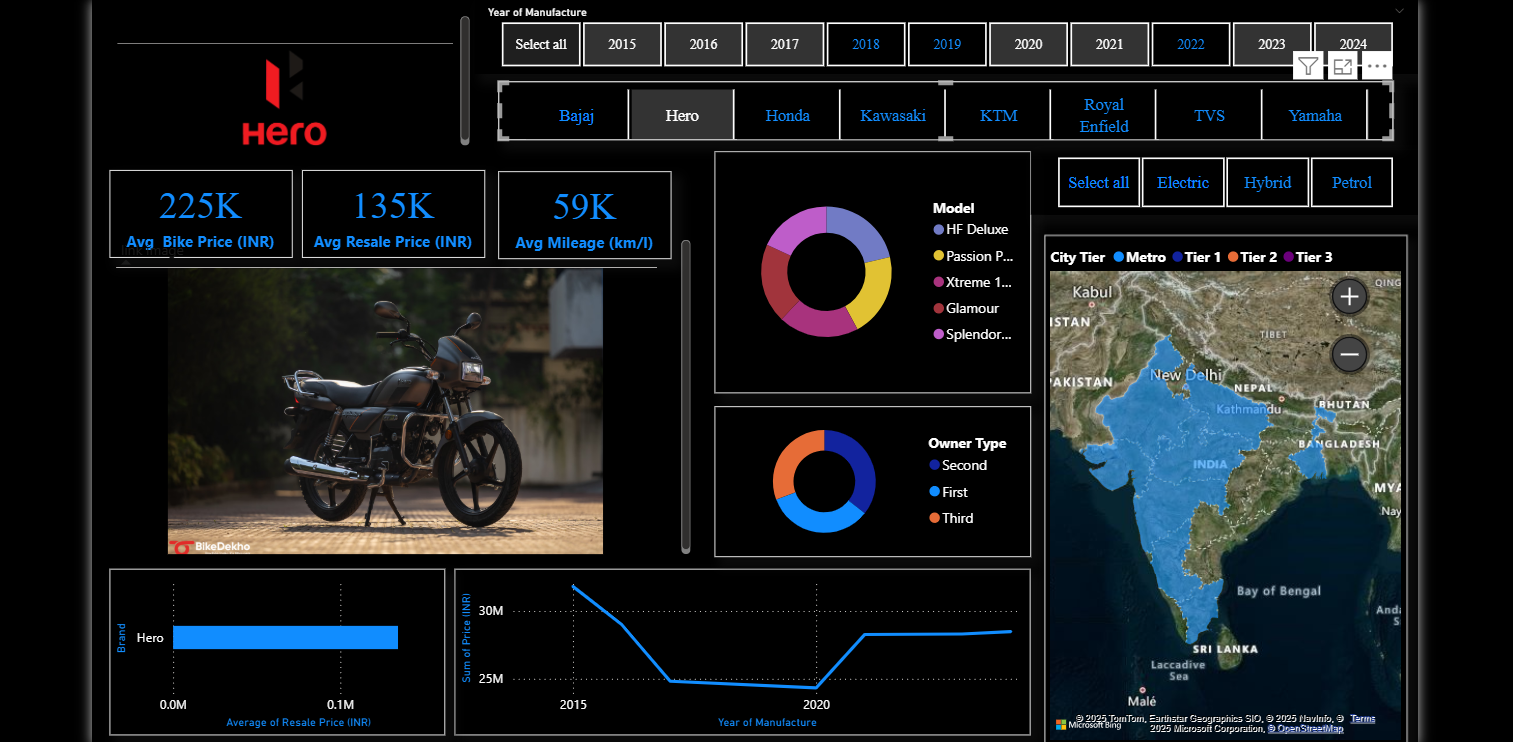

This screenshot's page, from the dashboard's own definition file:
{"tool":"powerbi","page":{"name":"Page 1","canvas":[1280,720],"ordinal":0},"visuals":[{"type":"card","fields":{"Values":["Avg(Sheet1.Price (INR))"]},"box":[16.7,164,176.5,84.8],"z":0},{"type":"card","fields":{"Values":["Avg(Sheet1.Resale Price (INR))"]},"box":[203,164,176.5,84.8],"z":1000},{"type":"card","fields":{"Values":["Sum(Sheet1.Mileage (km/l))"]},"box":[392,165.4,166.8,84.8],"z":2000},{"type":"lineChart","fields":{"Category":["Sheet1.Year of Manufacture"],"Y":["Sum(Sheet1.Price (INR))"]},"box":[349.9,548.9,556.2,160.5],"z":3000},{"type":"barChart","fields":{"Category":["Sheet1.Brand"],"Y":["Avg(Sheet1.Resale Price (INR))"]},"box":[16.5,548.9,323.8,160.5],"z":4000},{"type":"donutChart","fields":{"Category":["Sheet1.Model"],"Y":["CountNonNull(Sheet1.Model)"]},"box":[600.5,146,305.8,233.5],"z":5000},{"type":"donutChart","fields":{"Category":["Sheet1.Owner Type"],"Y":["CountNonNull(Sheet1.Model)"]},"box":[600.5,392,305.8,146],"z":6000},{"type":"slicer","fields":{"Values":["Sheet1.Fuel Type"]},"box":[906.3,144.6,373.9,62.6],"z":7000},{"type":"filledMap","fields":{"Category":["Sheet1.State"],"Series":["Sheet1.City Tier"]},"box":[918.9,226.6,350.3,493.5],"z":8000},{"type":"slicer","fields":{"Values":["Sheet1.Year of Manufacture"]},"box":[369.8,0,910.5,70.9],"z":9000},{"type":"tableEx","fields":{"Values":["Table.link image"]},"box":[16.7,226.6,565.8,312.8],"z":10000},{"type":"slicer","fields":{"Values":["Table.Brand"]},"box":[392.1,78.4,863.8,56.7],"z":11000},{"type":"tableEx","fields":{"Values":["loko (2).logo2"]},"box":[18.1,11.1,351.7,134.8],"z":12000}]}

Visuals, with their boxes on the page's 1280x720 design canvas (x1, y1, x2, y2). These are canvas units, not pixel positions in the 1513x742 screenshot, which may show the page scaled, cropped or inside an application window:
card - Avg(Sheet1.Price (INR)): pyautogui.locateOnScreen(17, 164, 193, 249)
card - Avg(Sheet1.Resale Price (INR)): pyautogui.locateOnScreen(203, 164, 380, 249)
card - Sum(Sheet1.Mileage (km/l)): pyautogui.locateOnScreen(392, 165, 559, 250)
lineChart - Sheet1.Year of Manufacture x Sum(Sheet1.Price (INR)): pyautogui.locateOnScreen(350, 549, 906, 709)
barChart - Sheet1.Brand x Avg(Sheet1.Resale Price (INR)): pyautogui.locateOnScreen(16, 549, 340, 709)
donutChart - Sheet1.Model x CountNonNull(Sheet1.Model): pyautogui.locateOnScreen(600, 146, 906, 380)
donutChart - Sheet1.Owner Type x CountNonNull(Sheet1.Model): pyautogui.locateOnScreen(600, 392, 906, 538)
slicer - Sheet1.Fuel Type: pyautogui.locateOnScreen(906, 145, 1280, 207)
filledMap - Sheet1.State x Sheet1.City Tier: pyautogui.locateOnScreen(919, 227, 1269, 720)
slicer - Sheet1.Year of Manufacture: pyautogui.locateOnScreen(370, 0, 1280, 71)
tableEx - Table.link image: pyautogui.locateOnScreen(17, 227, 582, 539)
slicer - Table.Brand: pyautogui.locateOnScreen(392, 78, 1256, 135)
tableEx - loko (2).logo2: pyautogui.locateOnScreen(18, 11, 370, 146)
